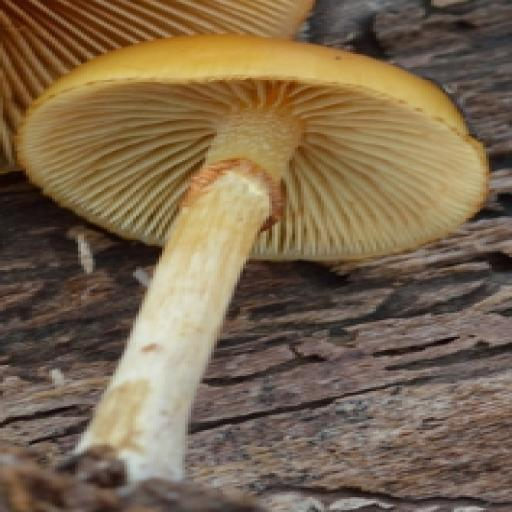mushroom: (18, 29, 492, 360)
